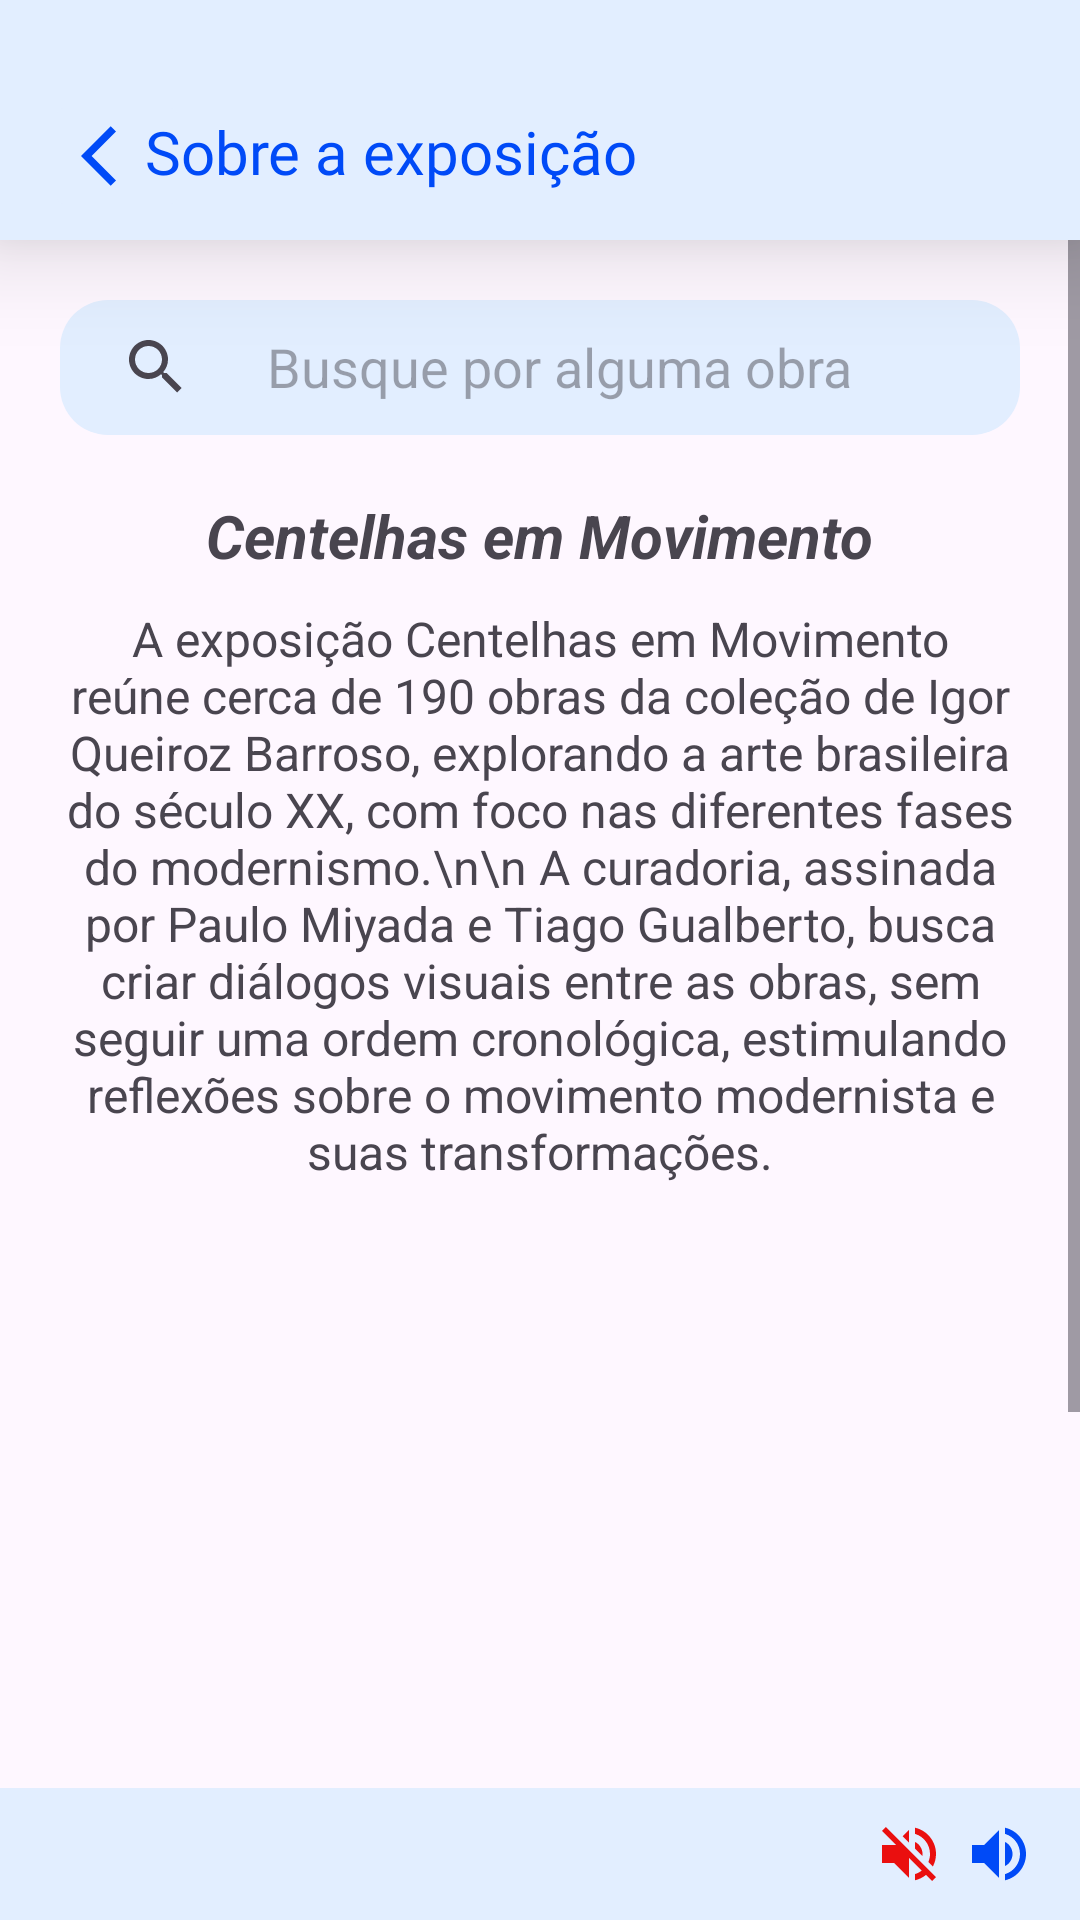

Screen size 1080*1920. Icon name, then its center in pixels as (x,y):
volume off: (909,1854)
volume up: (999,1854)
